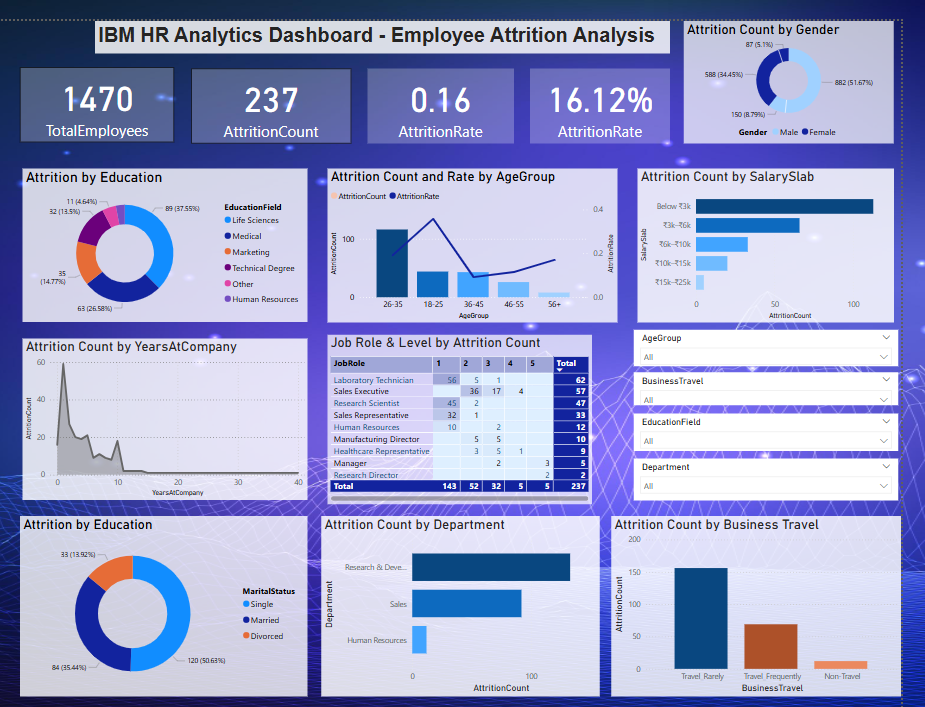

The page's visual inventory and layout, read from the dashboard file:
{"tool":"powerbi","page":{"name":"Page 1","canvas":[1443,1106],"ordinal":0},"visuals":[{"type":"card","fields":{"Values":["HR_Attrition_Processed.TotalEmployees"]},"box":[32,74,246,120],"z":0},{"type":"card","fields":{"Values":["HR_Attrition_Processed.AttritionCount"]},"box":[306,76,256,120],"z":1000},{"type":"card","fields":{"Values":["HR_Attrition_Processed.AttritionRate"]},"box":[588,76,234,120],"z":2000},{"type":"donutChart","title":"Attrition by Education","fields":{"Category":["HR_Attrition_Processed.EducationField"],"Y":["HR_Attrition_Processed.AttritionCount"]},"box":[35.7,235.7,455.7,245.7],"z":3000},{"type":"textbox","box":[152,0,920,52],"z":4000},{"type":"card","fields":{"Values":["HR_Attrition_Processed.AttritionRate"]},"box":[848,76,224,120],"z":5000},{"type":"donutChart","title":"Attrition Count by Gender","fields":{"Category":["HR_Attrition_Processed.Gender"],"Y":["CountNonNull(HR_Attrition_Processed.Gender)","HR_Attrition_Processed.AttritionCount"]},"box":[1094,0,336,196],"z":6000},{"type":"lineStackedColumnComboChart","title":"Attrition Count and Rate by AgeGroup","fields":{"Category":["HR_Attrition_Processed.AgeGroup"],"Y":["HR_Attrition_Processed.AttritionCount"],"Y2":["HR_Attrition_Processed.AttritionRate"]},"box":[524,236,464,246],"z":7000},{"type":"pivotTable","title":"Job Role & Level by Attrition Count","fields":{"Columns":["HR_Attrition_Processed.JobLevel"],"Rows":["HR_Attrition_Processed.JobRole"],"Values":["HR_Attrition_Processed.AttritionCount"]},"box":[524.3,501.4,422.9,271.4],"z":8000},{"type":"barChart","title":"Attrition Count by SalarySlab","fields":{"Y":["HR_Attrition_Processed.AttritionCount"],"Category":["HR_Attrition_Processed.SalarySlab"]},"box":[1020,236,410,246],"z":9000},{"type":"areaChart","title":"Attrition Count by YearsAtCompany","fields":{"Category":["HR_Attrition_Processed.YearsAtCompany"],"Y":["HR_Attrition_Processed.AttritionCount"]},"box":[36,508,456,258],"z":10000},{"type":"barChart","title":"Attrition Count by Department","fields":{"Y":["HR_Attrition_Processed.AttritionCount"],"Category":["HR_Attrition_Processed.Department"]},"box":[514.3,792.9,445.7,288.6],"z":11000},{"type":"donutChart","title":"Attrition by Education","fields":{"Y":["HR_Attrition_Processed.AttritionCount"],"Category":["HR_Attrition_Processed.MaritalStatus"]},"box":[31.4,792.9,460,288.6],"z":12000},{"type":"columnChart","title":"Attrition Count by Business Travel","fields":{"Y":["HR_Attrition_Processed.AttritionCount"],"Category":["HR_Attrition_Processed.BusinessTravel"]},"box":[978.6,792.9,464.3,288.6],"z":13000},{"type":"slicer","fields":{"Values":["HR_Attrition_Processed.AgeGroup"]},"box":[1014.3,494.3,422.9,58.6],"z":14000},{"type":"slicer","fields":{"Values":["HR_Attrition_Processed.BusinessTravel"]},"box":[1014.3,562.9,422.9,52.9],"z":15000},{"type":"slicer","fields":{"Values":["HR_Attrition_Processed.EducationField"]},"box":[1014.3,627.1,422.9,60],"z":16000},{"type":"slicer","fields":{"Values":["HR_Attrition_Processed.Department"]},"box":[1014.3,700,422.9,67.1],"z":17000}]}

Visuals, with their boxes in screenshot pixels (x1, y1, x2, y2), scaled from the page's 1443x1106 canvas onto the 925x707 screenshot:
card - HR_Attrition_Processed.TotalEmployees: bbox=(21, 47, 178, 124)
card - HR_Attrition_Processed.AttritionCount: bbox=(196, 49, 360, 125)
card - HR_Attrition_Processed.AttritionRate: bbox=(377, 49, 527, 125)
"Attrition by Education" donutChart: bbox=(23, 151, 315, 308)
textbox: bbox=(97, 0, 687, 33)
card - HR_Attrition_Processed.AttritionRate: bbox=(544, 49, 687, 125)
"Attrition Count by Gender" donutChart: bbox=(701, 0, 917, 125)
"Attrition Count and Rate by AgeGroup" lineStackedColumnComboChart: bbox=(336, 151, 633, 308)
"Job Role & Level by Attrition Count" pivotTable: bbox=(336, 321, 607, 494)
"Attrition Count by SalarySlab" barChart: bbox=(654, 151, 917, 308)
"Attrition Count by YearsAtCompany" areaChart: bbox=(23, 325, 315, 490)
"Attrition Count by Department" barChart: bbox=(330, 507, 615, 691)
"Attrition by Education" donutChart: bbox=(20, 507, 315, 691)
"Attrition Count by Business Travel" columnChart: bbox=(627, 507, 924, 691)
slicer - HR_Attrition_Processed.AgeGroup: bbox=(650, 316, 921, 353)
slicer - HR_Attrition_Processed.BusinessTravel: bbox=(650, 360, 921, 394)
slicer - HR_Attrition_Processed.EducationField: bbox=(650, 401, 921, 439)
slicer - HR_Attrition_Processed.Department: bbox=(650, 447, 921, 490)
